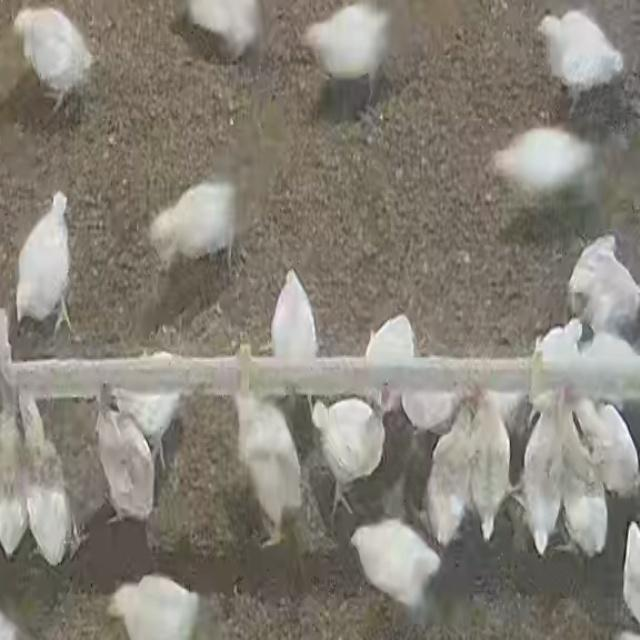chicken: (232, 385, 304, 547), (16, 394, 76, 560), (474, 124, 598, 202), (11, 189, 80, 329), (12, 5, 97, 115), (349, 516, 442, 616), (310, 395, 384, 519), (554, 390, 608, 556), (94, 392, 156, 526), (520, 384, 569, 552), (147, 178, 235, 269), (534, 12, 626, 96), (468, 389, 514, 542), (423, 406, 474, 542), (303, 3, 389, 82), (568, 237, 640, 331), (579, 396, 639, 503), (108, 574, 202, 640), (0, 402, 32, 562), (183, 0, 263, 62), (270, 268, 318, 365), (364, 313, 418, 398)
